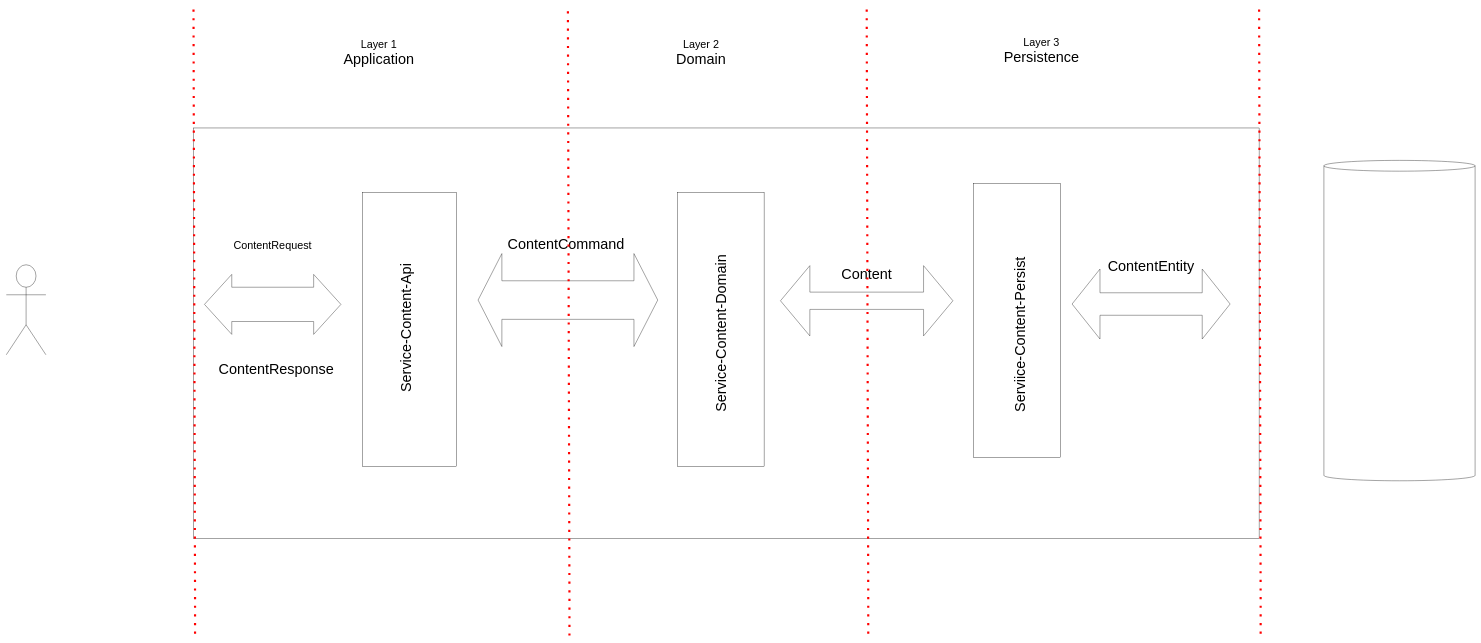
The diagram is 1481 pixels wide and 643 high, and some of its shapes have lost their labels. Here are the shapes that lost their labels. From the top down, the centre of each, then its label:
At (26,309): "User".
At (1399,320): "H2 Database".
